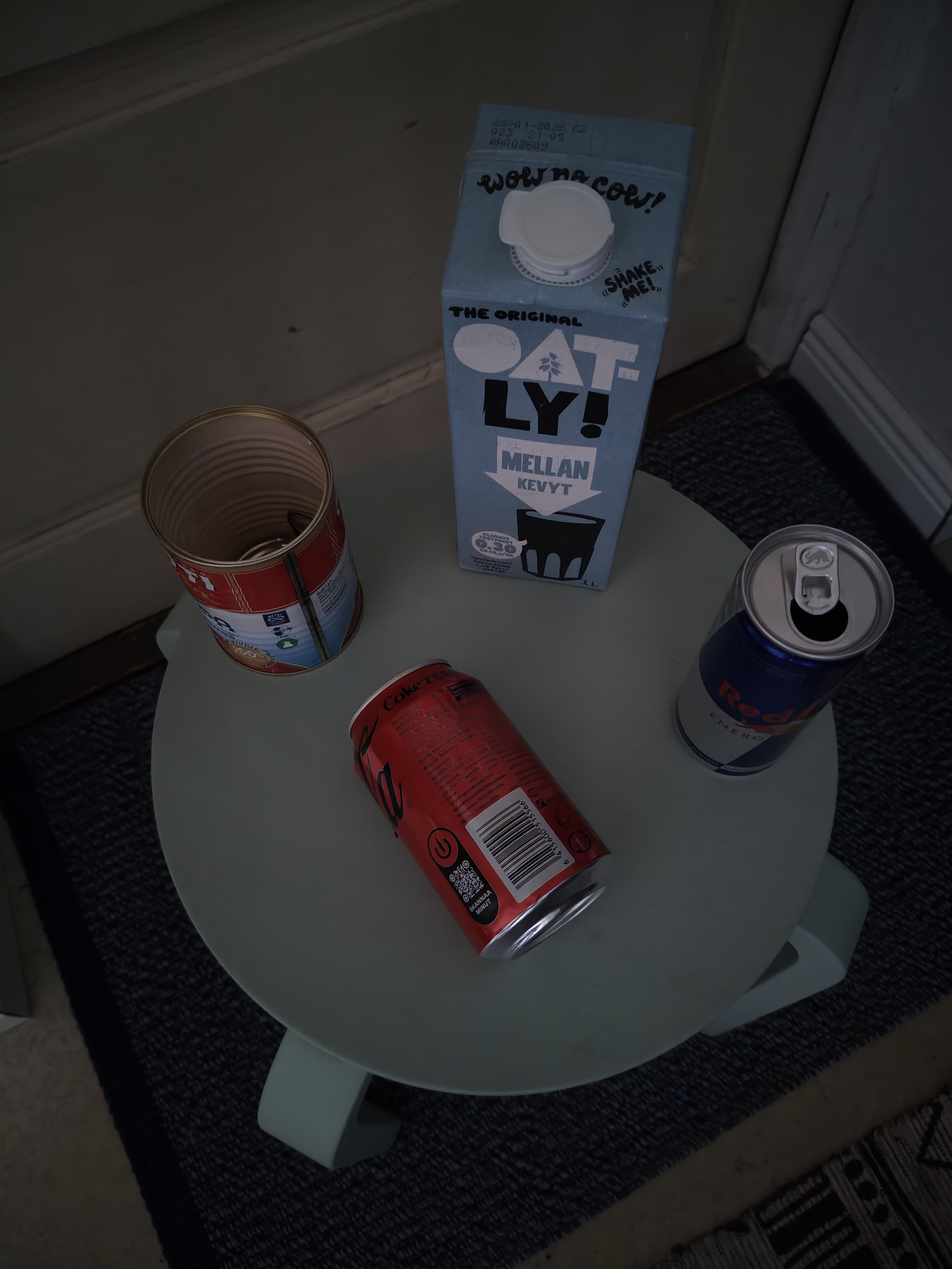Dryckeskartong: (441, 100, 696, 594)
Konservburk: (140, 404, 365, 677)
Pantburk: (347, 658, 611, 962), (673, 523, 895, 777)
